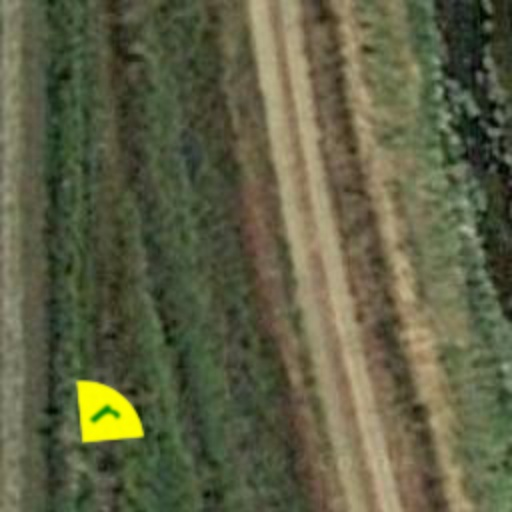quarter_circle: (46, 354, 166, 474)
